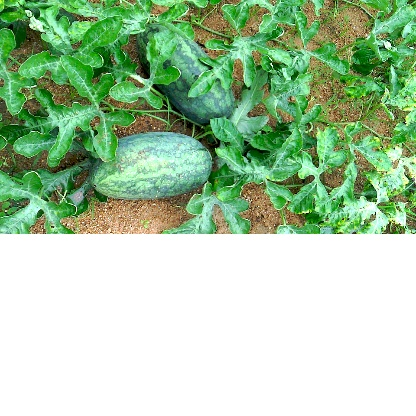duahau: (131, 15, 250, 131), (77, 130, 215, 201)
